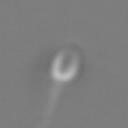normal: (36, 83, 76, 128)
